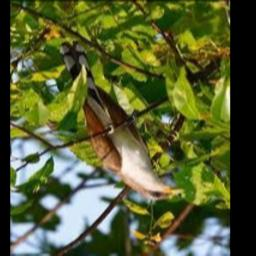Cuckoo: (59, 41, 185, 201)
